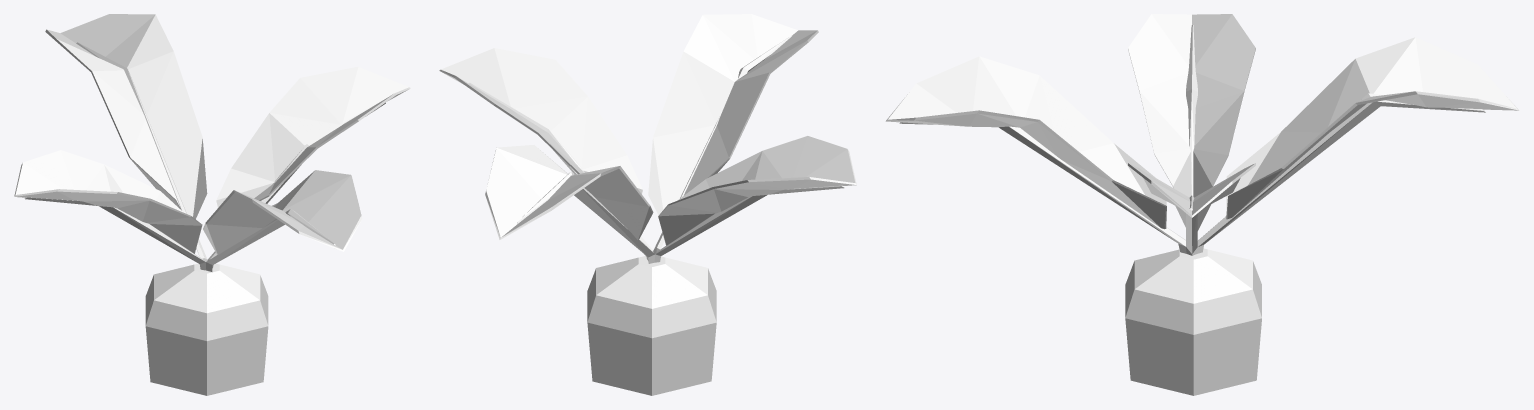
The model's file is Crop_Beetroot_STAGE_3_01.glb.
3 renders of one model, left to right at view 1: azimuth 30°, elevation 25°; view 2: azimuth 150°, elevation 25°; view 3: azimuth 270°, elevation 25°, orthographic. The views are drawn at different scales.
Parts seen in each view (by area): view 1: Crop_Beetroot_STAGE_3_01; view 2: Crop_Beetroot_STAGE_3_01; view 3: Crop_Beetroot_STAGE_3_01.
Part boxes in pixels (x1,y1,x2,y2): Crop_Beetroot_STAGE_3_01: (14,14,410,395); Crop_Beetroot_STAGE_3_01: (439,14,856,395); Crop_Beetroot_STAGE_3_01: (885,14,1519,395).
Size of the model in its own units: 0.5661 by 0.3673 by 0.7035.
Materials: 1 (1 with a texture image).
